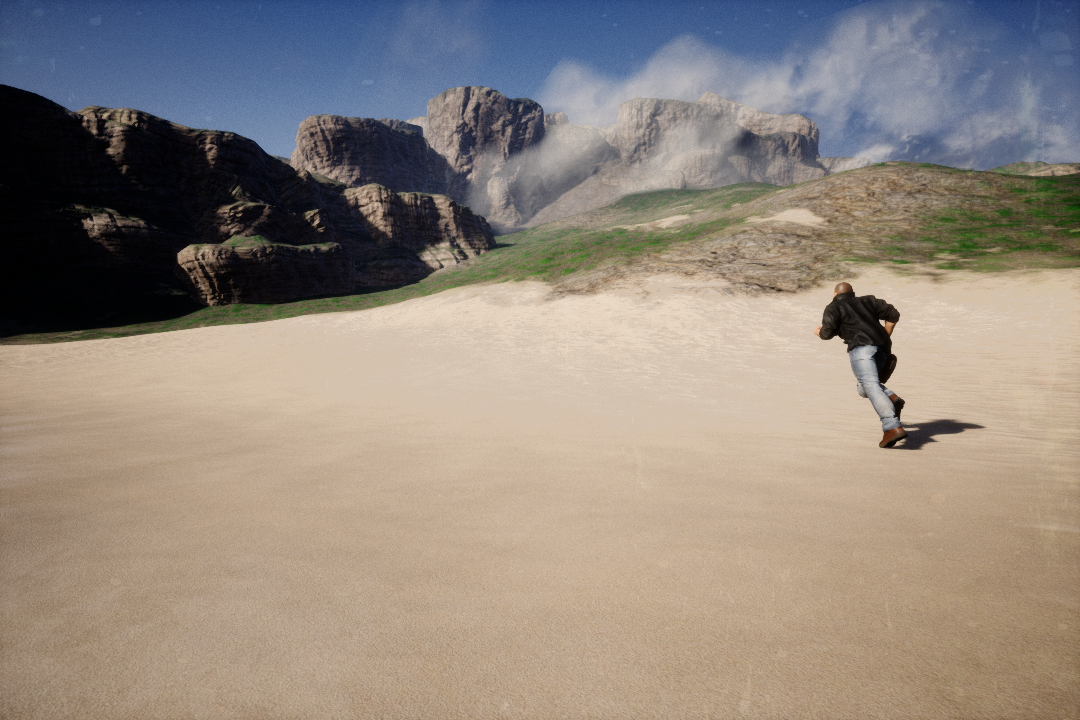person: (808, 278, 924, 455)
